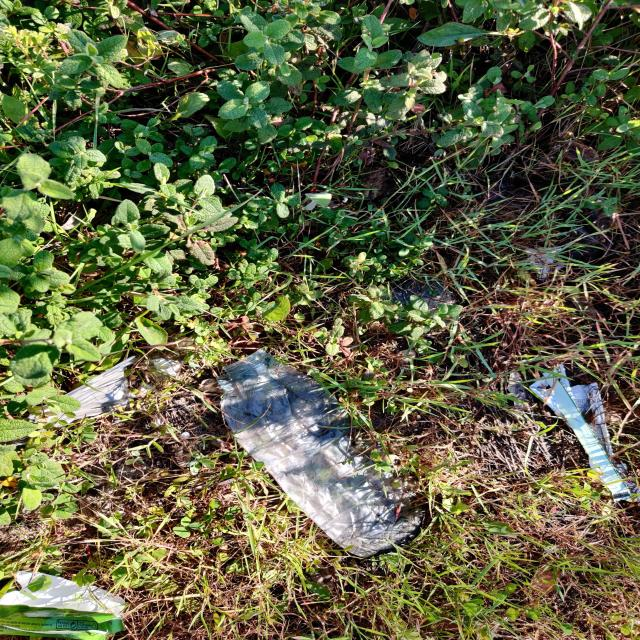litter: (301, 207, 595, 331), (36, 210, 256, 251)
